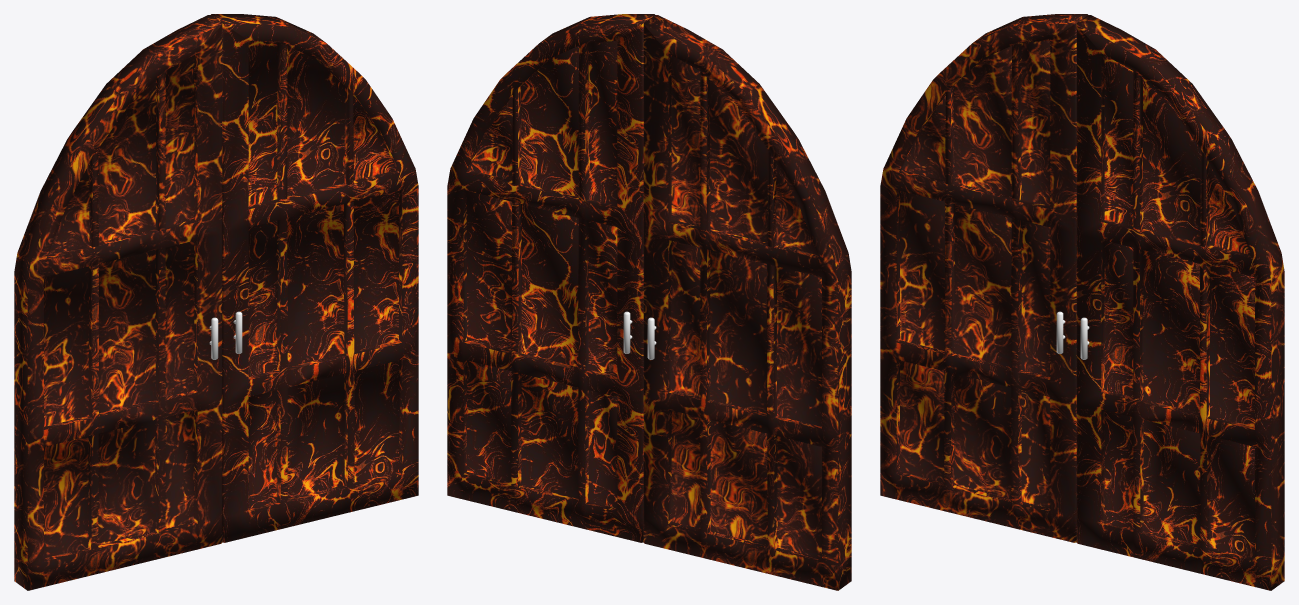
File: _ChurchDoor_Cursed.glb
3 views of the same model, side by side, from view 1: azimuth 30°, elevation 25°; view 2: azimuth 150°, elevation 25°; view 3: azimuth 330°, elevation 25° (orthographic).
Parts seen in each view (by area): view 1: ChurchDoor.2, ChurchDoor1, ChurchDoorHandles; view 2: ChurchDoor.2, ChurchDoor1, ChurchDoorHandles; view 3: ChurchDoor1, ChurchDoor.2, ChurchDoorHandles.
Boxes of the visible parts, left/top/right/bottom form: ChurchDoor.2: left=14, top=15, right=222, bottom=590; ChurchDoor1: left=211, top=14, right=418, bottom=542; ChurchDoorHandles: left=209, top=311, right=242, bottom=359; ChurchDoor.2: left=643, top=15, right=851, bottom=590; ChurchDoor1: left=447, top=14, right=654, bottom=542; ChurchDoorHandles: left=623, top=311, right=656, bottom=359; ChurchDoor1: left=1076, top=15, right=1284, bottom=590; ChurchDoor.2: left=880, top=14, right=1087, bottom=542; ChurchDoorHandles: left=1056, top=311, right=1089, bottom=359.
Size of the model in its own units: 33.7 by 42.8 by 3.61.
2 materials, 1 textured.
